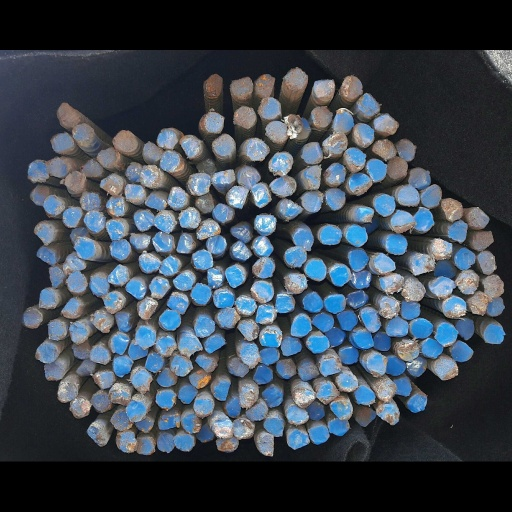dipstick: (55, 65, 79, 96), (269, 125, 292, 156), (113, 100, 139, 127), (167, 301, 192, 329), (403, 284, 426, 314), (270, 156, 296, 182), (256, 59, 282, 85), (286, 80, 310, 108), (130, 396, 151, 427), (326, 103, 347, 134), (353, 89, 374, 120), (160, 123, 181, 154), (409, 332, 433, 359), (177, 196, 201, 223), (258, 342, 281, 370), (430, 233, 453, 261), (264, 87, 287, 115), (101, 153, 124, 181), (344, 121, 364, 153), (434, 339, 456, 368), (131, 196, 153, 225), (301, 173, 322, 203), (359, 53, 380, 83), (390, 199, 414, 225), (429, 281, 453, 307), (374, 79, 398, 105), (278, 184, 301, 211), (347, 154, 370, 181), (187, 152, 210, 179), (324, 170, 346, 198), (262, 416, 282, 446), (255, 29, 275, 59), (181, 106, 201, 136), (50, 102, 74, 127), (377, 279, 403, 302), (435, 383, 458, 409), (74, 233, 97, 259), (246, 110, 269, 136), (156, 97, 179, 123), (252, 258, 274, 285), (318, 381, 340, 408), (262, 455, 284, 482), (311, 68, 333, 95), (385, 228, 406, 256), (482, 280, 503, 308), (359, 321, 380, 349), (191, 289, 212, 317), (324, 140, 344, 169), (365, 134, 385, 163), (343, 31, 363, 60), (142, 113, 162, 142), (140, 141, 160, 170), (238, 412, 256, 444), (179, 354, 203, 378), (408, 146, 431, 171), (328, 269, 351, 294), (395, 362, 420, 385), (328, 434, 351, 459), (97, 121, 120, 146), (71, 90, 94, 115), (26, 138, 49, 163), (283, 243, 305, 269), (319, 218, 341, 244), (385, 331, 407, 357), (216, 321, 238, 347), (300, 115, 322, 141), (477, 249, 496, 279), (305, 261, 326, 288), (397, 167, 418, 194), (373, 179, 394, 206), (420, 167, 441, 194), (454, 246, 475, 273), (337, 322, 358, 349), (287, 441, 308, 468), (87, 466, 108, 493), (170, 378, 191, 405), (160, 322, 181, 349), (212, 103, 233, 130), (33, 213, 54, 240), (48, 134, 69, 161), (116, 474, 136, 502), (470, 224, 493, 248), (442, 307, 465, 331), (353, 418, 376, 442), (237, 143, 260, 167), (233, 71, 256, 95), (154, 201, 177, 225), (105, 181, 128, 205), (366, 377, 385, 406), (256, 477, 275, 506), (252, 165, 271, 194), (334, 74, 353, 103), (293, 419, 315, 444), (239, 366, 261, 391), (108, 416, 130, 441), (198, 210, 220, 235), (237, 335, 258, 361), (345, 217, 366, 243), (379, 307, 400, 333), (451, 362, 472, 388), (135, 479, 156, 505), (65, 276, 86, 302), (286, 22, 307, 48), (84, 199, 105, 225), (233, 457, 253, 484), (91, 325, 111, 352), (293, 220, 312, 248), (303, 144, 322, 172), (387, 131, 406, 159), (467, 302, 486, 330), (109, 266, 128, 294), (230, 214, 253, 237), (35, 243, 58, 266), (108, 236, 131, 259), (284, 278, 306, 302), (234, 306, 256, 330), (280, 357, 302, 381), (306, 354, 328, 378), (275, 384, 297, 408), (229, 238, 251, 262), (64, 251, 86, 275), (274, 301, 295, 326), (290, 330, 311, 355), (347, 246, 368, 271), (441, 185, 462, 210), (412, 255, 433, 280), (378, 441, 399, 466), (336, 401, 357, 426), (298, 386, 319, 411), (90, 425, 111, 450), (213, 296, 234, 321), (191, 248, 212, 273), (89, 281, 110, 306), (213, 190, 234, 215), (168, 171, 189, 196), (63, 153, 84, 178), (415, 197, 433, 226), (375, 408, 393, 437), (468, 196, 488, 222), (139, 251, 159, 277), (22, 321, 42, 347), (125, 166, 145, 192), (43, 181, 63, 207), (447, 213, 466, 240), (484, 340, 503, 367), (386, 379, 405, 406), (214, 457, 233, 484), (57, 412, 76, 439), (224, 268, 243, 295), (160, 254, 179, 281), (153, 224, 172, 251), (228, 169, 247, 196), (31, 167, 50, 194), (301, 302, 323, 325), (422, 359, 445, 381), (257, 369, 279, 392), (216, 479, 239, 501), (195, 377, 217, 400), (154, 357, 176, 380), (375, 111, 397, 134), (231, 34, 253, 57), (194, 182, 216, 205), (145, 177, 168, 199), (79, 175, 102, 197), (254, 204, 275, 228), (350, 273, 371, 297), (356, 443, 377, 467), (228, 382, 249, 406), (137, 309, 155, 337), (150, 283, 168, 311), (398, 110, 416, 138), (253, 288, 273, 313), (316, 413, 336, 438), (325, 459, 350, 479), (109, 352, 129, 377), (83, 134, 103, 159), (455, 334, 474, 360), (194, 432, 213, 458), (183, 452, 202, 478), (68, 337, 87, 363), (47, 268, 66, 294), (173, 277, 195, 299), (89, 368, 111, 390), (372, 255, 395, 276), (323, 304, 346, 325), (352, 348, 373, 371), (337, 368, 358, 391), (307, 468, 328, 491), (287, 474, 308, 497), (174, 476, 195, 499), (41, 388, 64, 409), (125, 286, 146, 309), (325, 344, 345, 368), (189, 397, 209, 421), (156, 476, 176, 500), (112, 380, 132, 404), (313, 36, 333, 60), (253, 231, 272, 256), (255, 316, 274, 341), (393, 407, 412, 432), (205, 77, 224, 102), (105, 210, 124, 235), (204, 29, 222, 55), (434, 261, 455, 283), (455, 283, 477, 304), (158, 452, 180, 473), (206, 231, 227, 253), (345, 299, 368, 319), (111, 450, 131, 473), (68, 434, 88, 457), (157, 396, 177, 419), (135, 345, 155, 368), (37, 366, 57, 389), (47, 337, 67, 360), (102, 302, 122, 325), (61, 309, 81, 332), (212, 149, 235, 169), (307, 438, 326, 462), (253, 391, 272, 415), (195, 331, 214, 355), (408, 381, 426, 406), (247, 436, 265, 461), (39, 296, 57, 321), (63, 195, 81, 220), (208, 268, 224, 296), (113, 324, 130, 350), (351, 192, 371, 214), (129, 226, 149, 248), (194, 134, 216, 154), (400, 311, 419, 334), (373, 350, 391, 374), (214, 411, 230, 438), (179, 417, 197, 441), (148, 377, 166, 401), (125, 139, 143, 163), (312, 327, 332, 348), (93, 400, 114, 420), (68, 220, 87, 242), (486, 308, 504, 331), (407, 428, 425, 451), (155, 421, 172, 445), (129, 364, 147, 386), (178, 227, 194, 251), (205, 357, 225, 376), (134, 457, 153, 477), (197, 467, 214, 489), (77, 388, 95, 408), (366, 203, 380, 228), (71, 365, 90, 383), (128, 439, 145, 459), (227, 434, 241, 458)
